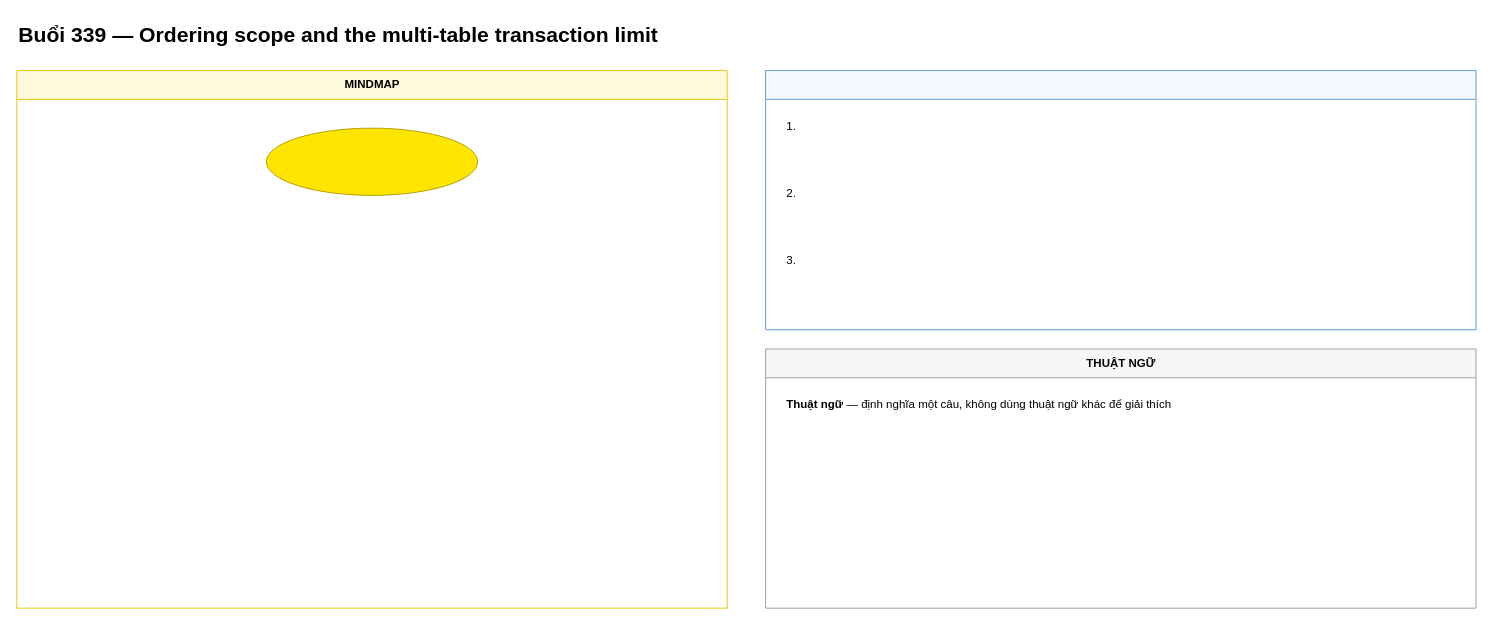
Image size: 1493x625. Some labels were removed from this diagram. The box of each missing label's shape, as (x1, y1, x2, y2) in pixels:
KEY TAKEAWAY — ba điều phải nhớ: (765, 70, 1476, 330)
Ordering scope and the multi-table transaction limit: (265, 127, 478, 195)
